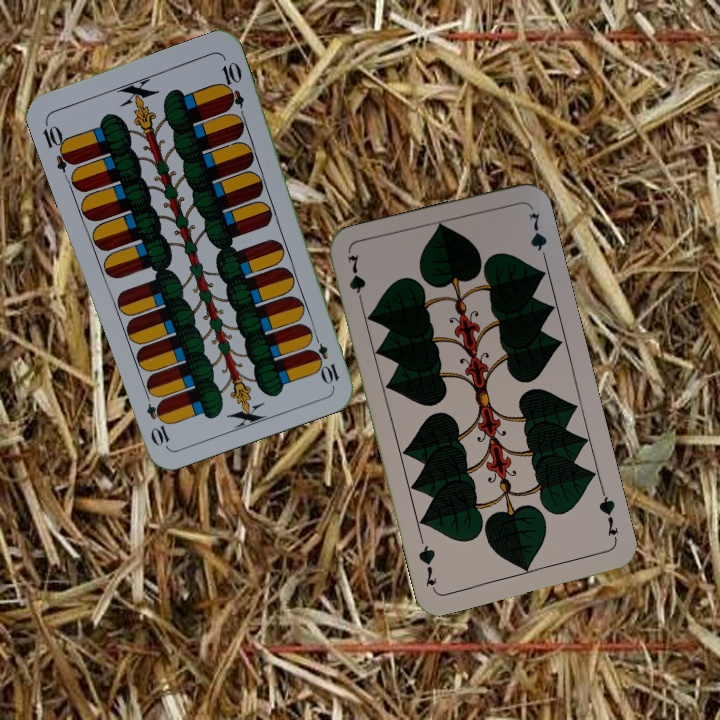E10: (38, 117, 78, 174), (308, 329, 342, 387)
G7: (342, 251, 368, 310), (595, 487, 621, 545)
